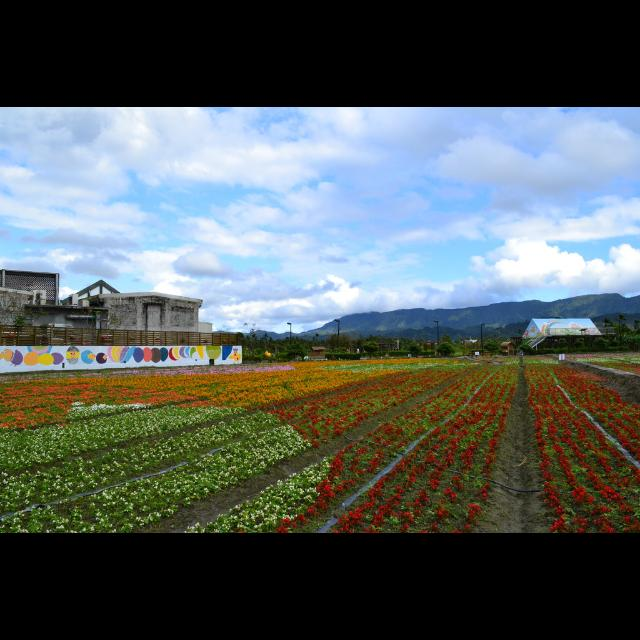Flower: (1, 357, 640, 533), (292, 521, 296, 529)
